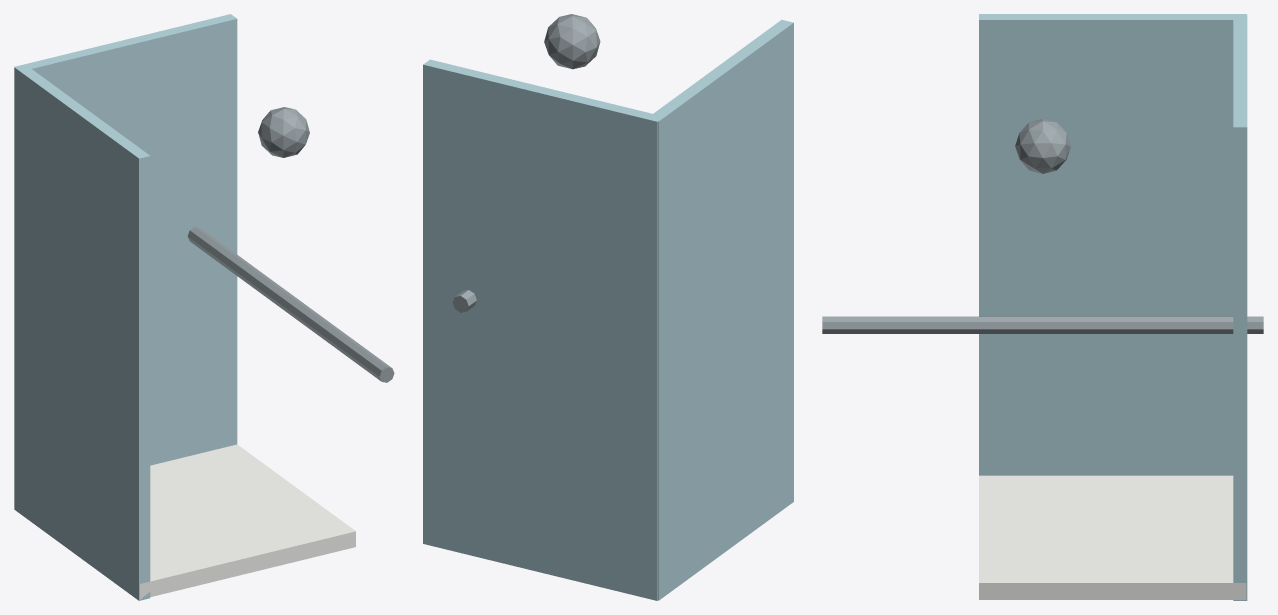
The model's file is shower_basic.glb.
The picture shows the model from 3 angles, left to right: view 1: azimuth 30°, elevation 25°; view 2: azimuth 150°, elevation 25°; view 3: azimuth 270°, elevation 25°; orthographic projection. The views are drawn at different scales.
Parts seen in each view (by area): view 1: part_01, part_02, part_00, part_03, part_04; view 2: part_02, part_01, part_04; view 3: part_01, part_00, part_02, part_03, part_04.
Boxes of the visible parts, left/top/right/bottom form: part_01: left=14, top=67, right=150, bottom=600; part_02: left=15, top=14, right=237, bottom=465; part_00: left=140, top=444, right=355, bottom=599; part_03: left=187, top=226, right=394, bottom=382; part_04: left=258, top=107, right=309, bottom=157; part_02: left=423, top=59, right=663, bottom=600; part_01: left=647, top=19, right=793, bottom=600; part_04: left=544, top=14, right=600, bottom=69; part_01: left=979, top=14, right=1245, bottom=475; part_00: left=979, top=475, right=1246, bottom=599; part_02: left=1233, top=14, right=1247, bottom=600; part_03: left=822, top=316, right=1263, bottom=333; part_04: left=1015, top=118, right=1070, bottom=173.
Bounding box in the file's own units: 1.15 × 2.25 × 1.9.
